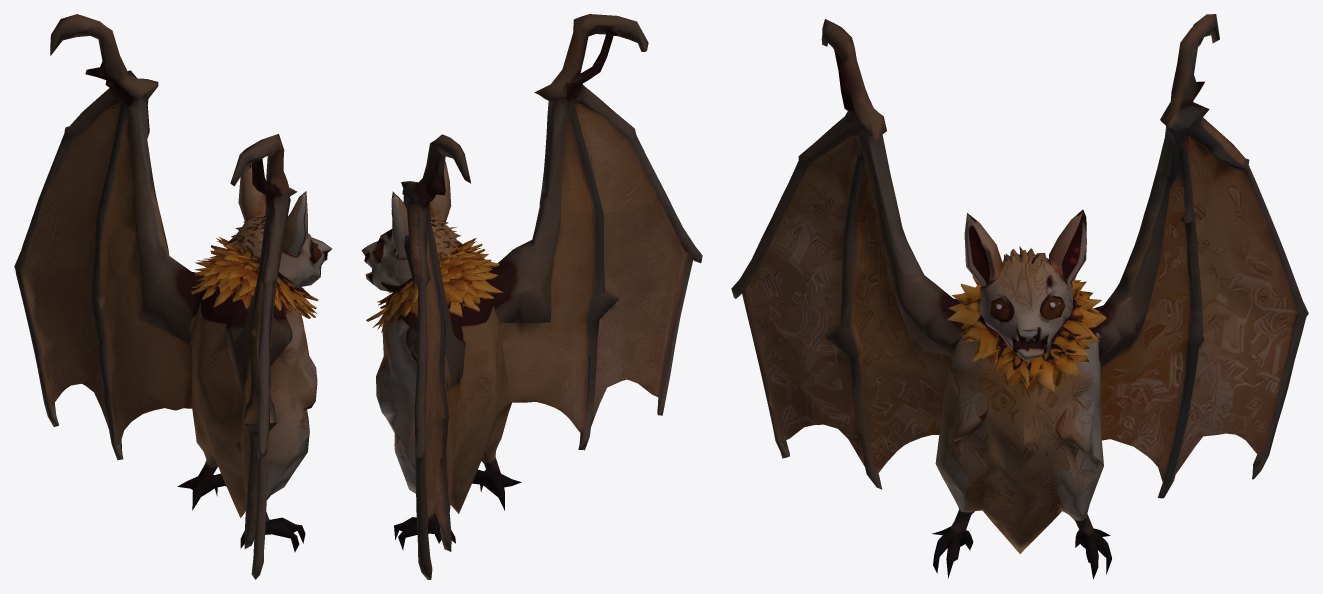
Rendered from cave_bat.glb.
The picture shows the model from 3 angles, left to right: view 1: azimuth 30°, elevation 25°; view 2: azimuth 150°, elevation 25°; view 3: azimuth 270°, elevation 25°; orthographic projection. The views are drawn at different scales.
Visible parts, largest first — view 1: tripo_node_bf95d0c4-65bc-4b28-ab96-098995383fef; view 2: tripo_node_bf95d0c4-65bc-4b28-ab96-098995383fef; view 3: tripo_node_bf95d0c4-65bc-4b28-ab96-098995383fef.
Boxes of the visible parts, <box> form: tripo_node_bf95d0c4-65bc-4b28-ab96-098995383fef: <box>14,14,332,579</box>; tripo_node_bf95d0c4-65bc-4b28-ab96-098995383fef: <box>361,14,702,579</box>; tripo_node_bf95d0c4-65bc-4b28-ab96-098995383fef: <box>731,14,1308,579</box>.
Size of the model in its own units: 0.4452 by 0.9772 by 1.
1 material, 1 textured.
